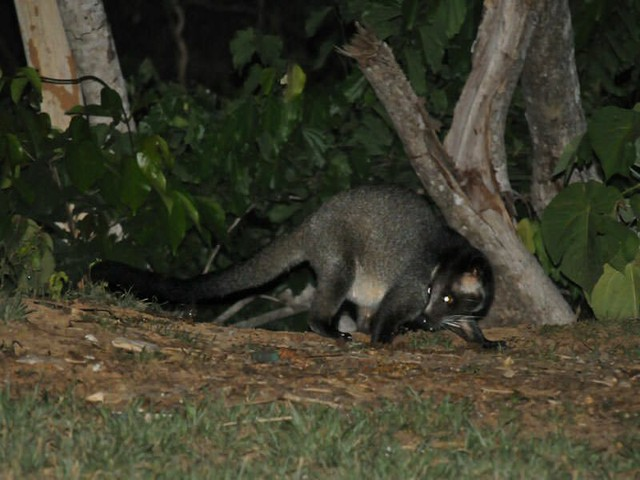civet: (90, 181, 515, 353)
